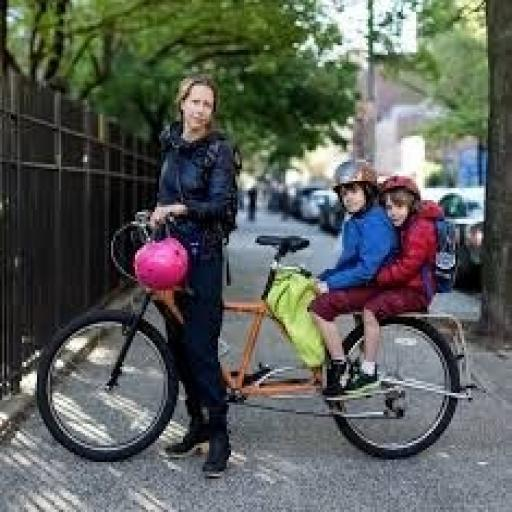cycling: (144, 71, 244, 481), (305, 159, 401, 405)
